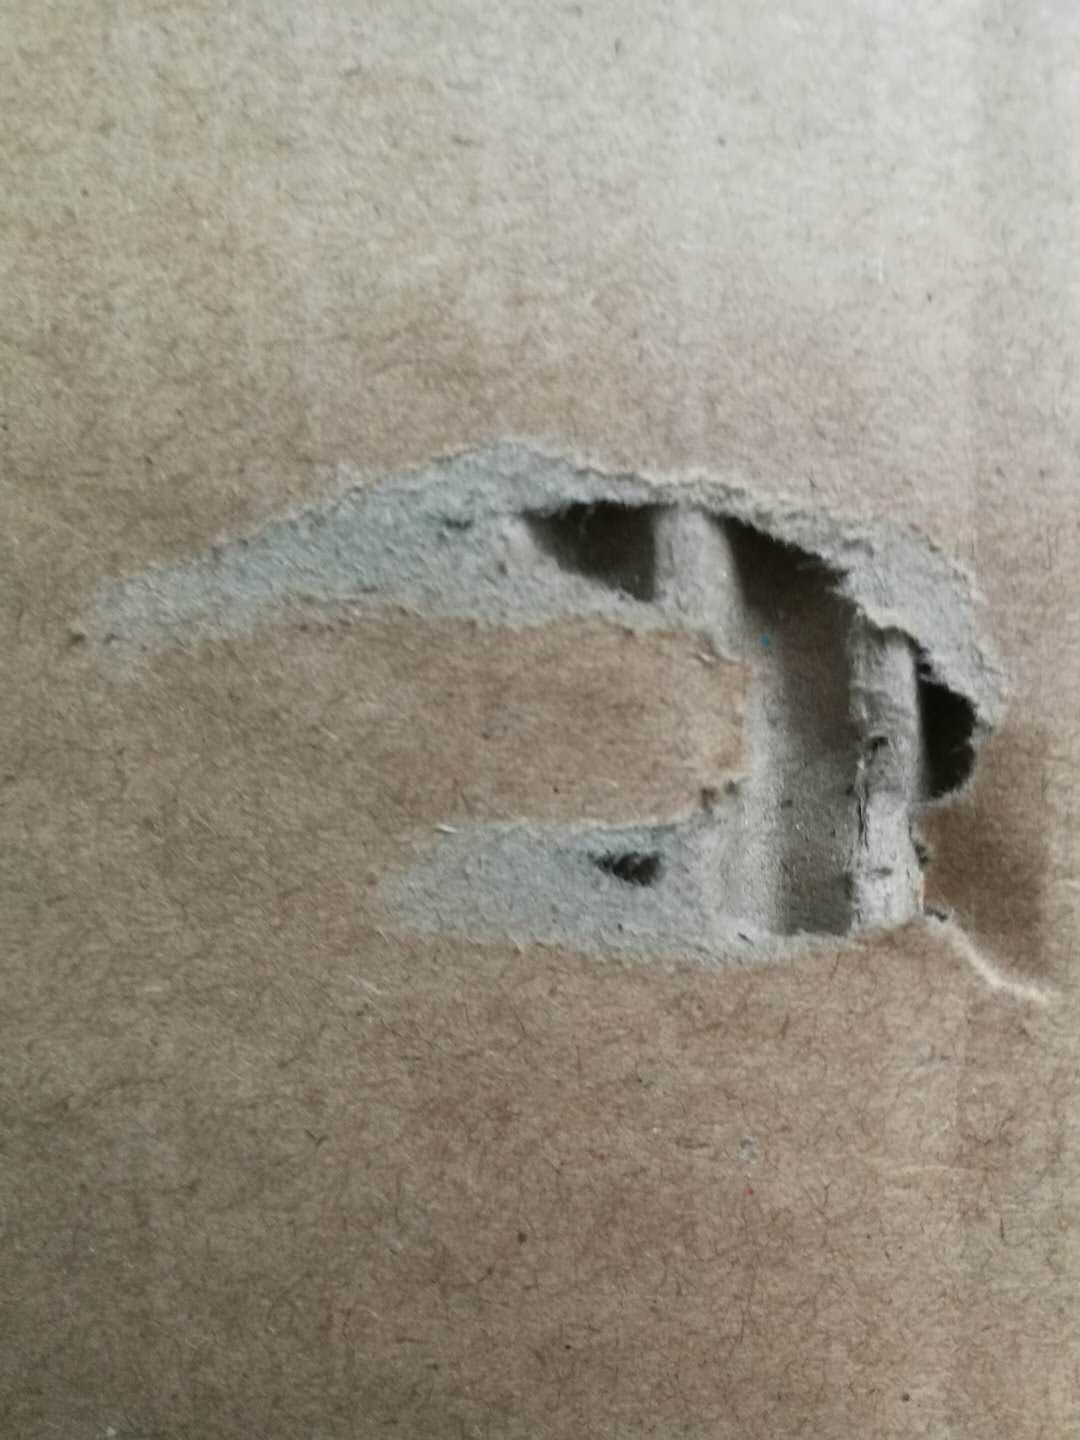defect: (54, 382, 1080, 1123)
